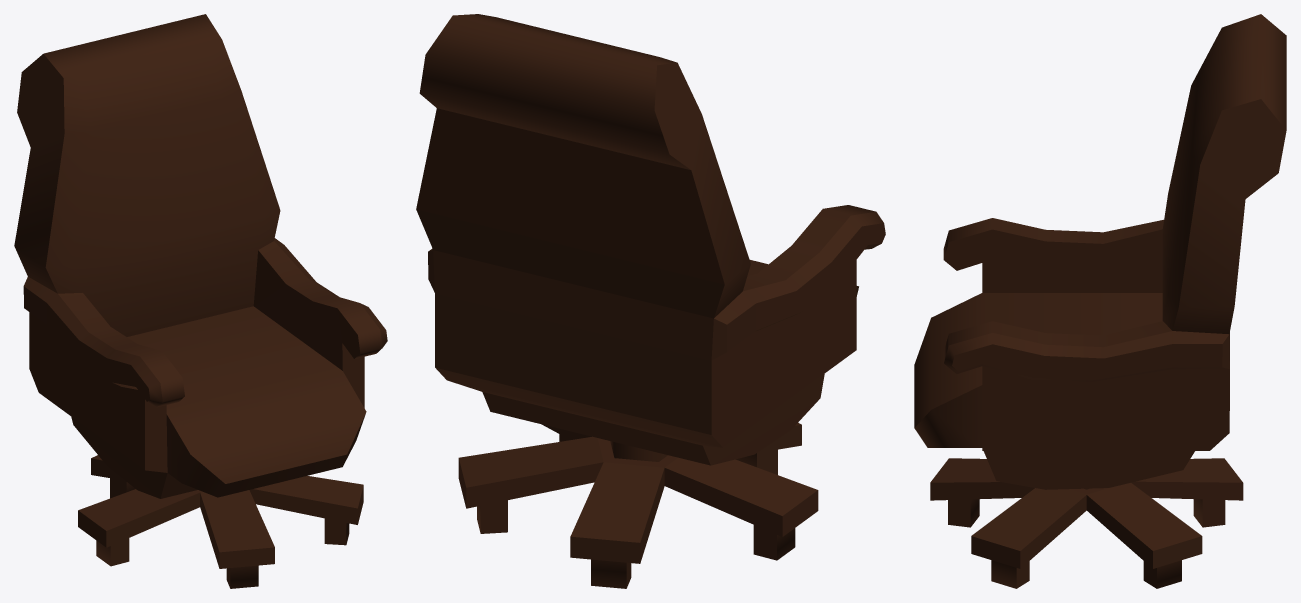
File: F_bossromm_chair.fbx
3 renders of one model, left to right at view 1: azimuth 30°, elevation 25°; view 2: azimuth 150°, elevation 25°; view 3: azimuth 270°, elevation 25°, orthographic. The views are drawn at different scales.
Parts seen in each view (by area): view 1: boss_chair; view 2: boss_chair; view 3: boss_chair.
Part boxes in pixels (x1=…): boss_chair: x1=14, y1=14, x2=387, y2=588; boss_chair: x1=416, y1=14, x2=885, y2=588; boss_chair: x1=914, y1=14, x2=1286, y2=588.
Size of the model in its own units: 45.67 by 77.44 by 55.03.
